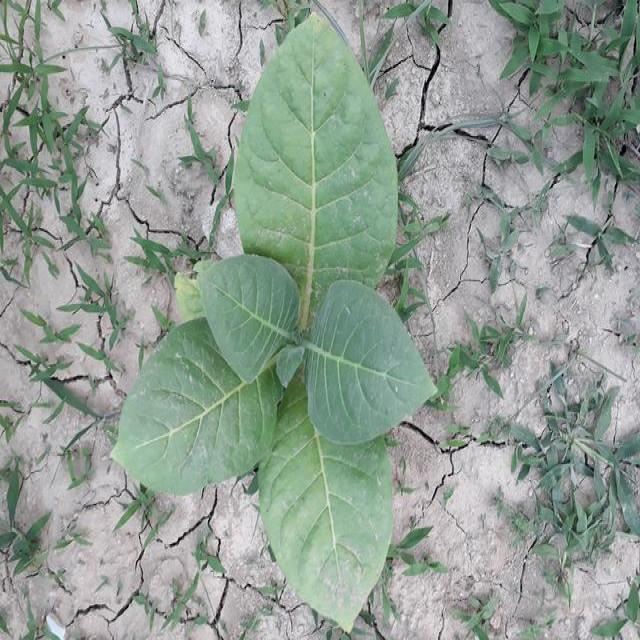crop: (113, 9, 447, 640)
